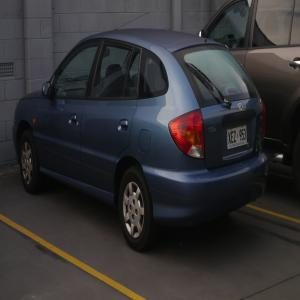Vehicle-registration-plate: (228, 118, 252, 152)
